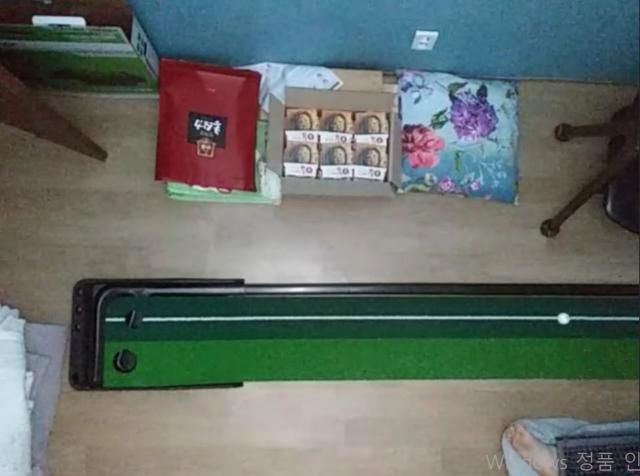golf_ball: (557, 312, 569, 325)
green_zone: (104, 296, 640, 387)
hole: (113, 348, 137, 373), (125, 309, 143, 330)
